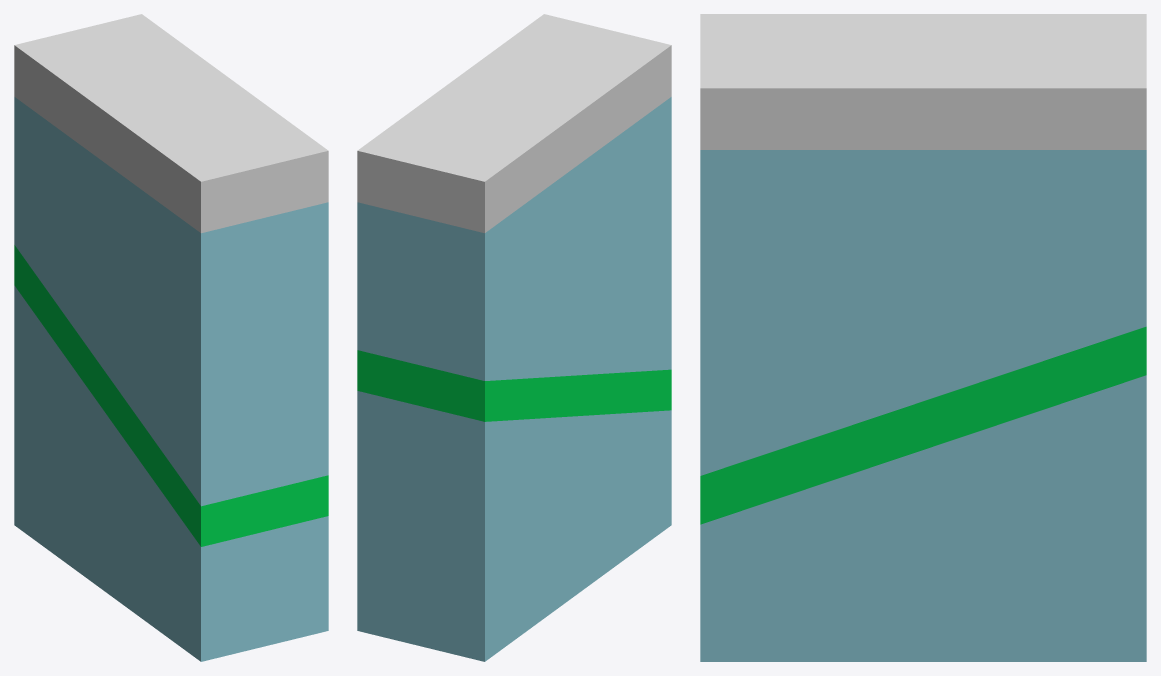
File: eatdog.fbx
3 views of the same model, side by side, from view 1: azimuth 30°, elevation 25°; view 2: azimuth 150°, elevation 25°; view 3: azimuth 270°, elevation 25° (orthographic). The views are drawn at different scales.
Parts seen in each view (by area): view 1: Cube; view 2: Cube; view 3: Cube.
Part boxes in pixels (bbox=[...]): Cube: bbox=[14, 14, 328, 661]; Cube: bbox=[357, 14, 671, 661]; Cube: bbox=[700, 14, 1146, 661].
Bounding box in the file's own units: 78.84 × 284 × 200.
